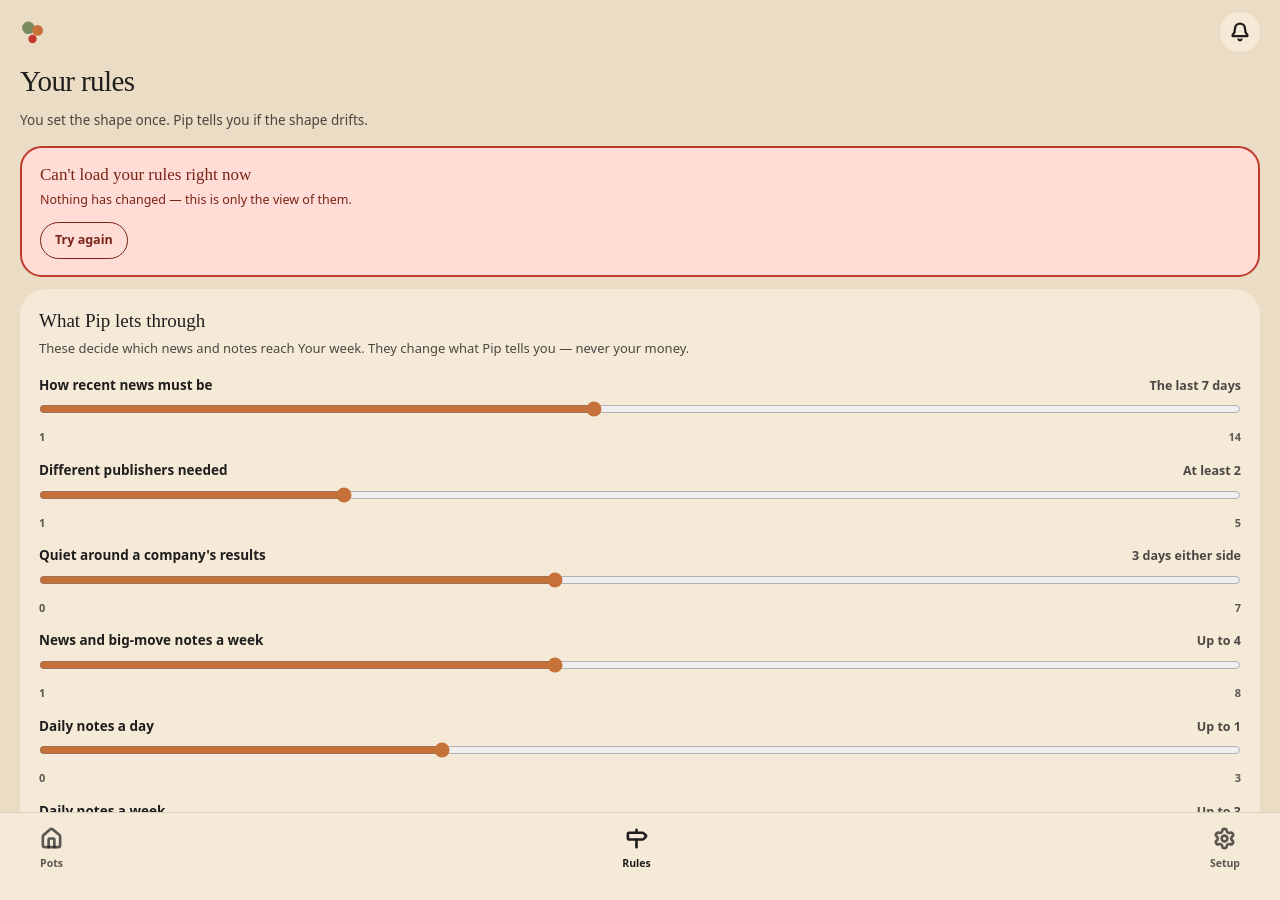
Test: the rules screen's other states › offers a retry when the rules can't load
The image size is (1280, 900).
Expected: the heading "Can't load your rules right now" is shown, [40,165,251,184]
Click the button "Try again".
click(84, 240)  # box [40,222,128,259]
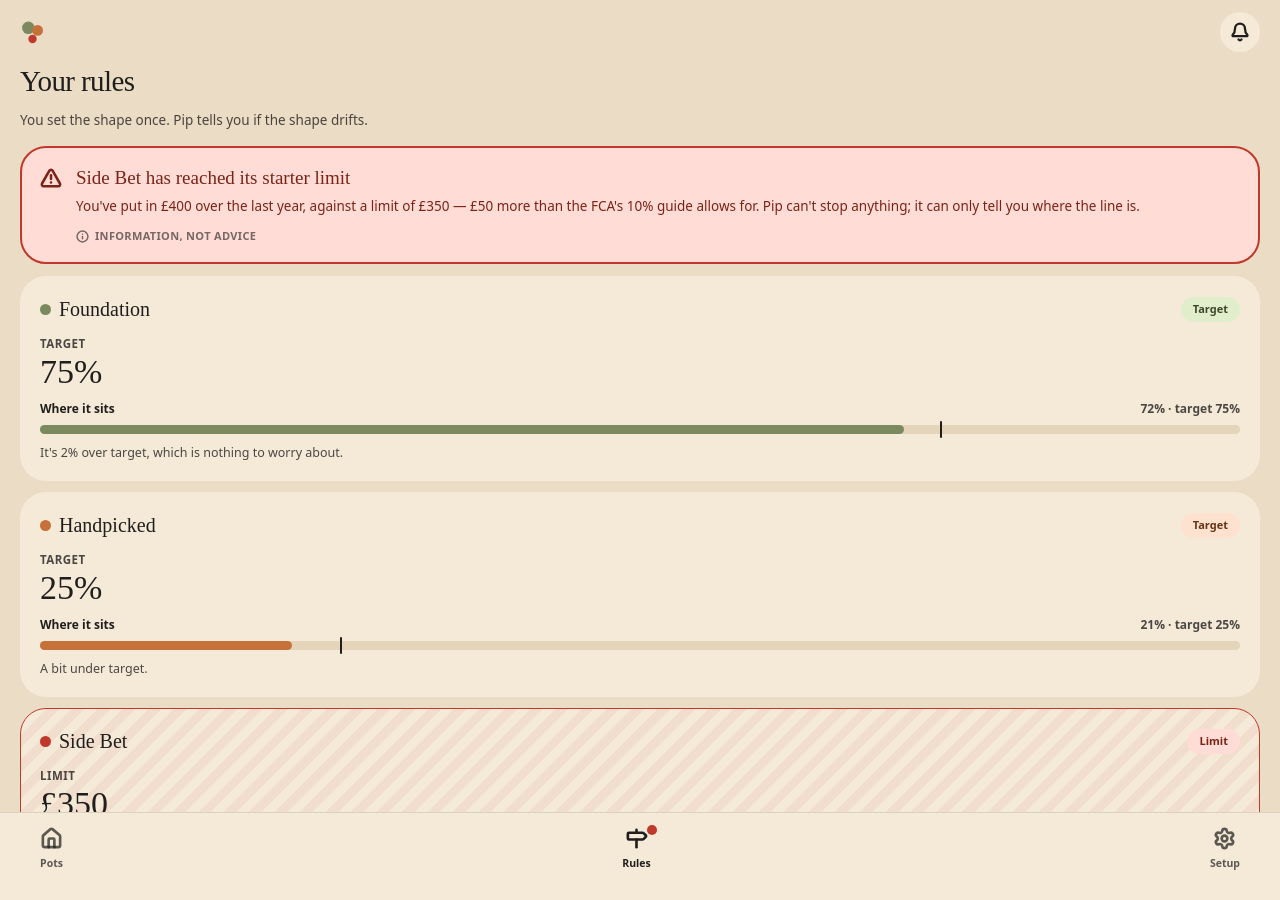
Result: the heading "Side Bet has reached its starter limit" is shown at [76,167,350,188]
